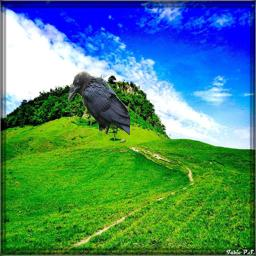Crow: (68, 71, 130, 135)
